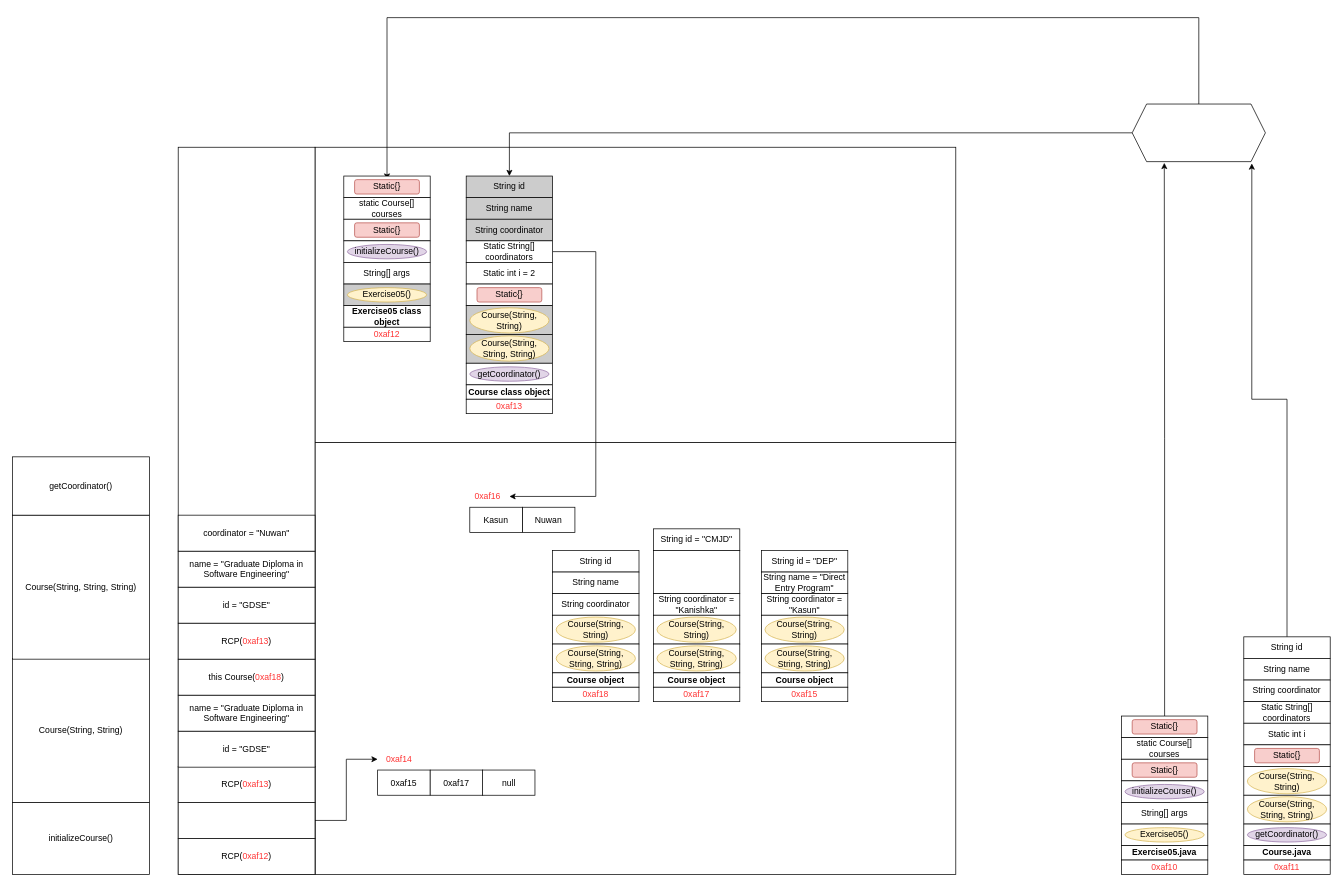
Some shapes in this 1343 by 887 pixel diagram are drawn without their labels. Here are the shapes that lost their labels. From the top down, the centre of each, then its label:
(x=1198, y=132): Class Loader
(x=696, y=572): String name = "Comprehensive Master Java Developer"
(x=246, y=820): courses( 0xaf14 )
